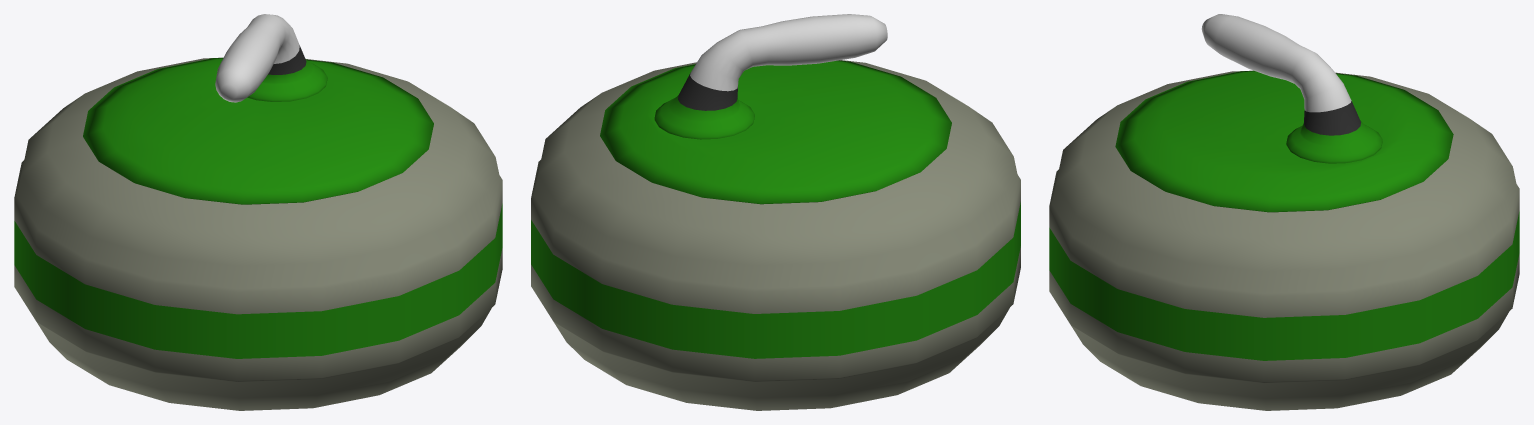
The model's file is PierreVert.dae.
3 views of the same model, side by side, from view 1: azimuth 30°, elevation 25°; view 2: azimuth 150°, elevation 25°; view 3: azimuth 270°, elevation 25° (orthographic). The views are drawn at different scales.
Parts seen in each view (by area): view 1: curlingstone_001; view 2: curlingstone_001; view 3: curlingstone_001.
Part boxes in pixels (x1,y1,x2,y2): curlingstone_001: [14, 14, 502, 410]; curlingstone_001: [531, 14, 1020, 410]; curlingstone_001: [1049, 14, 1519, 410].
Size of the model in its own units: 0.1678 by 0.1678 by 0.1184.
